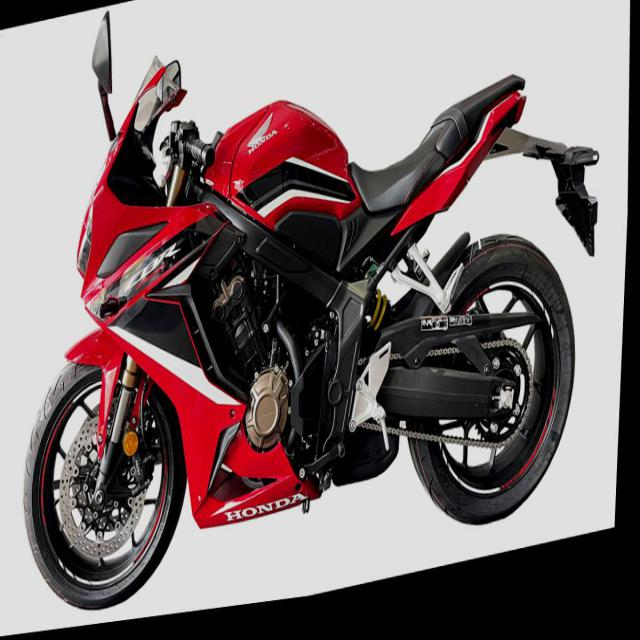CBR650R: (8, 0, 620, 633)
